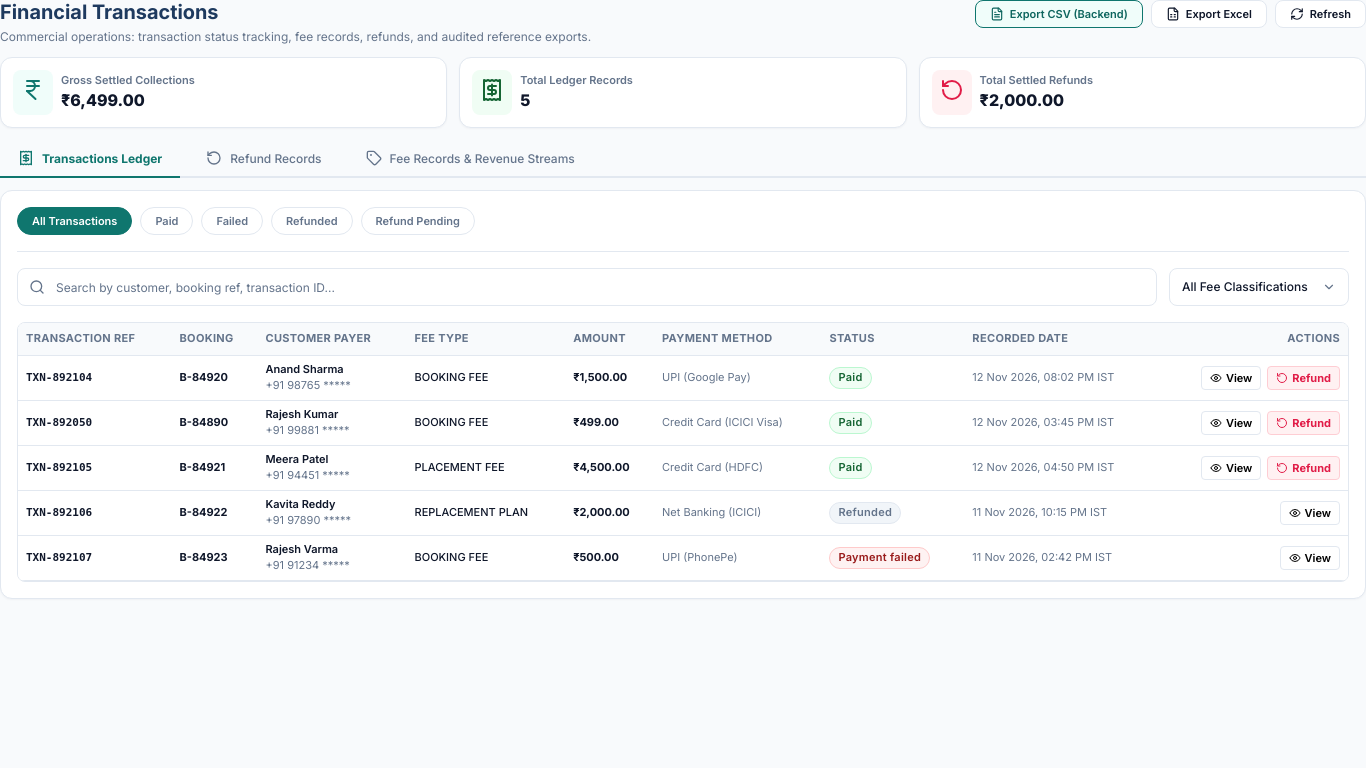
Test: Payment Transaction Details Modal — Action Buttons Verification › 2. "Verify Payment Status" Action & Permissions › displays error feedback when verification API fails
The image size is (1366, 768).
What coordinates should you click on to do the following:
click the button with aria-label "View"
I would click on:
 (683, 378)
Its box is x1=18 y1=356 x2=1348 y2=401.
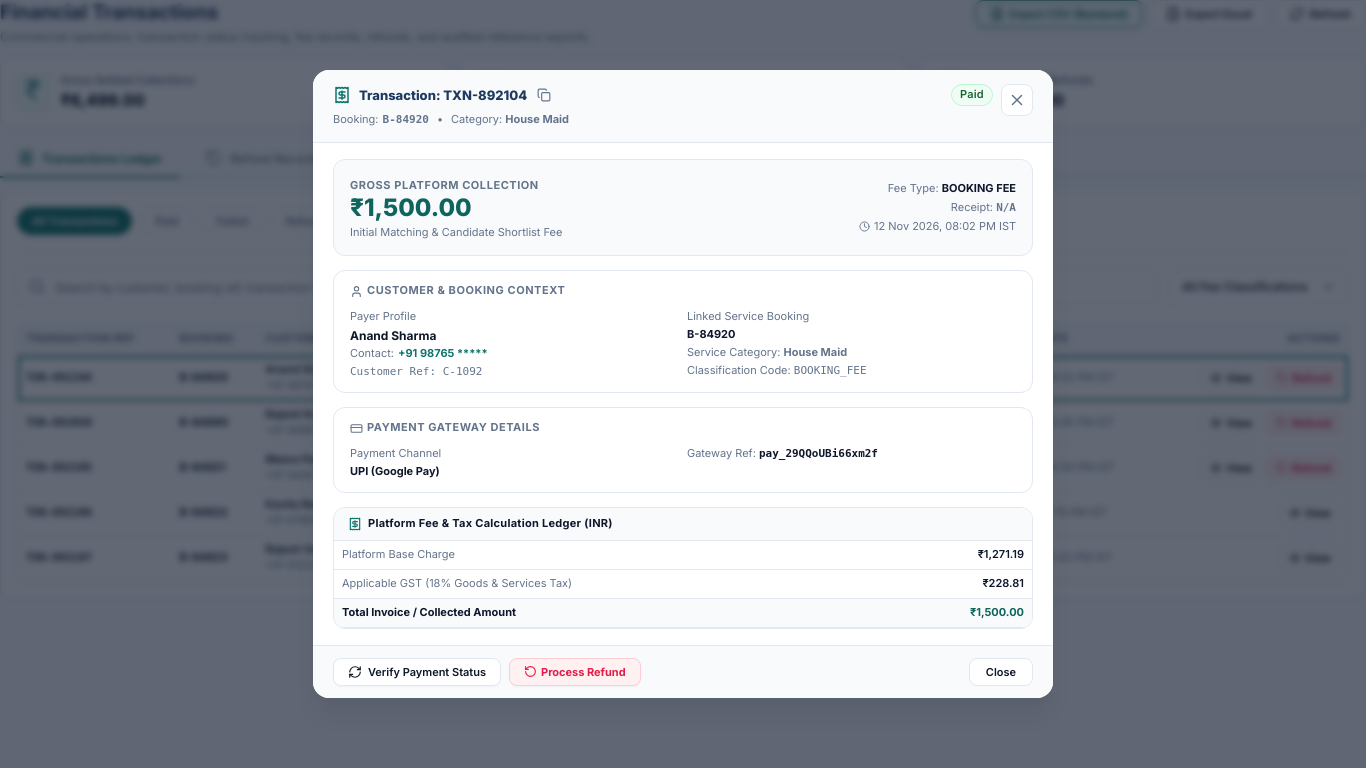
What coordinates should you click on to do the following:
click the button "Verify Payment Status"
I would click on:
 (417, 672)
Its box is x1=333 y1=658 x2=501 y2=686.
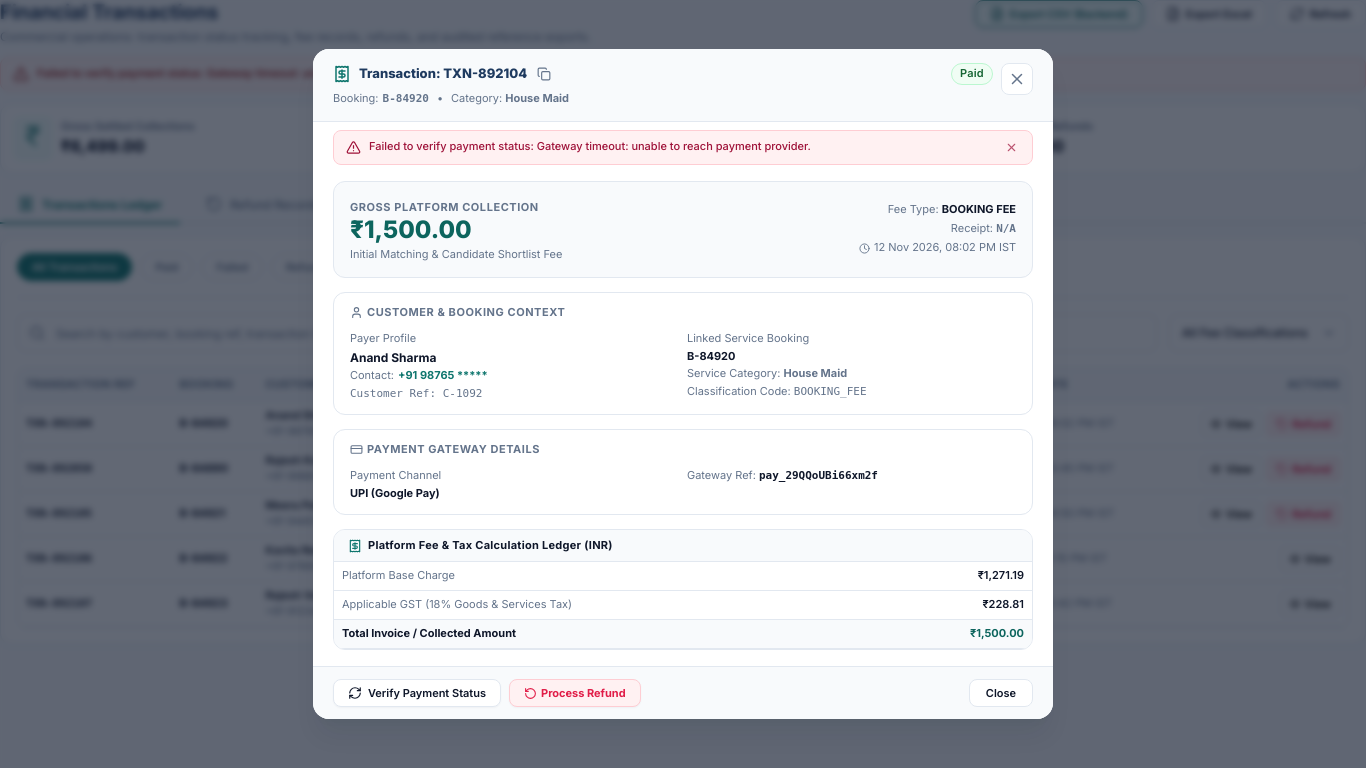
Expected: the message with test id "modal-feedback-banner" shows "Failed to verify payment status: Gateway timeout", x1=369 y1=139 x2=811 y2=153
